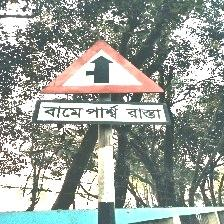Side-road-left: (35, 39, 169, 127)
